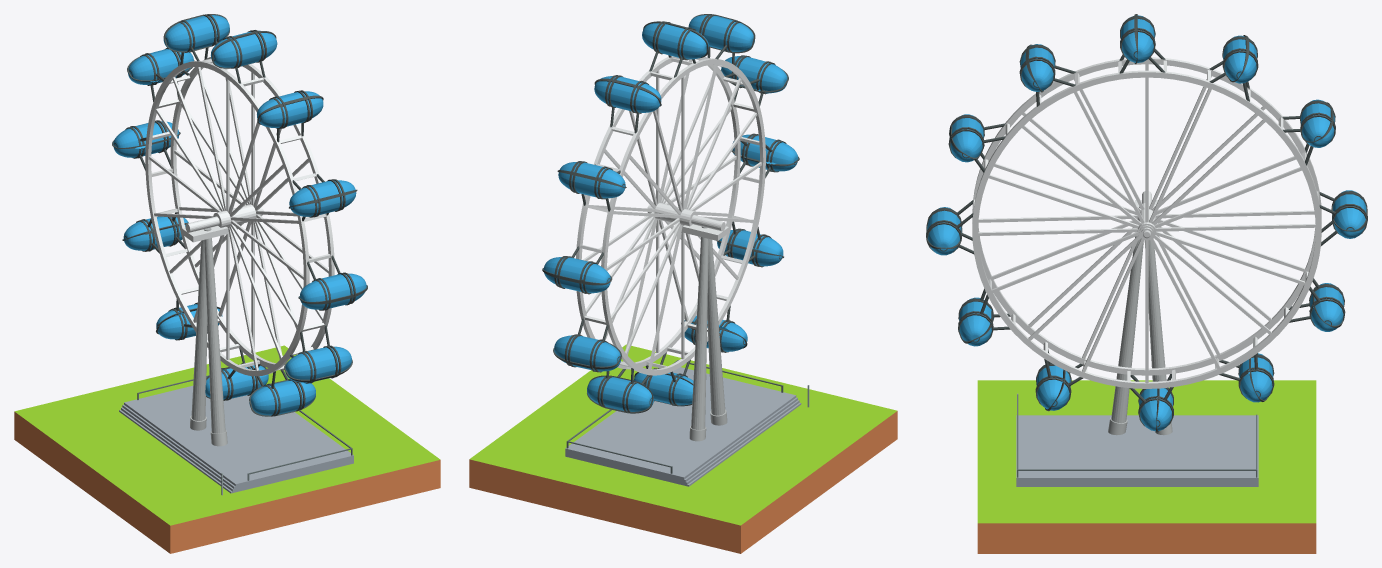
The model's file is wheel.fbx.
3 views of the same model, side by side, from view 1: azimuth 30°, elevation 25°; view 2: azimuth 150°, elevation 25°; view 3: azimuth 270°, elevation 25° (orthographic). The views are drawn at different scales.
Visible parts, largest first — view 1: london_eye, London_eye_cap16; view 2: london_eye, London_eye_cap16; view 3: london_eye, London_eye_cap16.
Boxes of the visible parts, x1,y1,x2,y2 form: london_eye: [14, 228, 440, 553]; London_eye_cap16: [112, 14, 367, 416]; london_eye: [469, 226, 897, 553]; London_eye_cap16: [542, 14, 799, 413]; london_eye: [977, 236, 1316, 553]; London_eye_cap16: [926, 14, 1367, 432].
Bounding box in the file's own units: 200 × 304 × 261.
